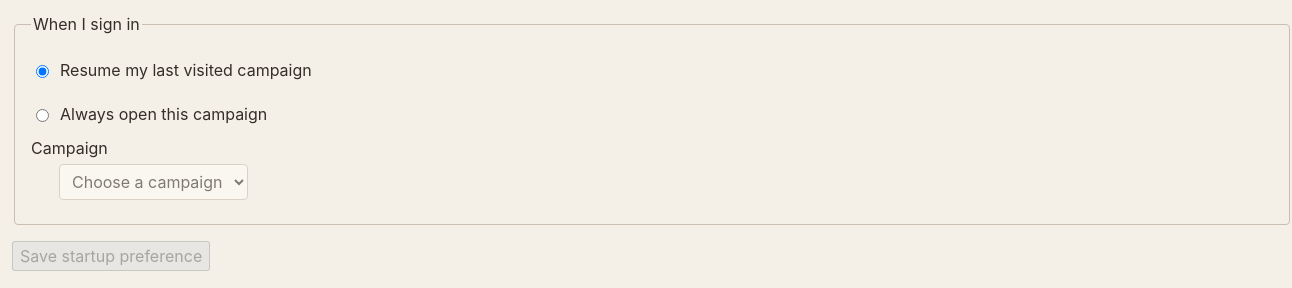
Scenario: CampaignStartupForm choosing and saving › enables the selector for fixed mode but needs a campaign before saving
Click the radio button labelled "Always open this campaign": click(42, 116) [36,109,49,122]
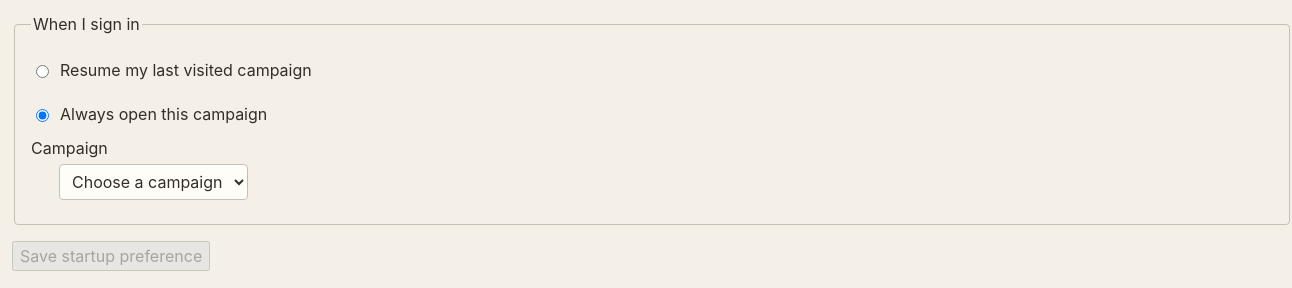
Check: the button "Save startup preference" is disabled, box [12,241,210,271]
Check: the dropdown labelled "Campaign" is enabled
Select "Alpha Campaign" in the dropdown labelled "Campaign": (154, 182) [59,164,248,200]
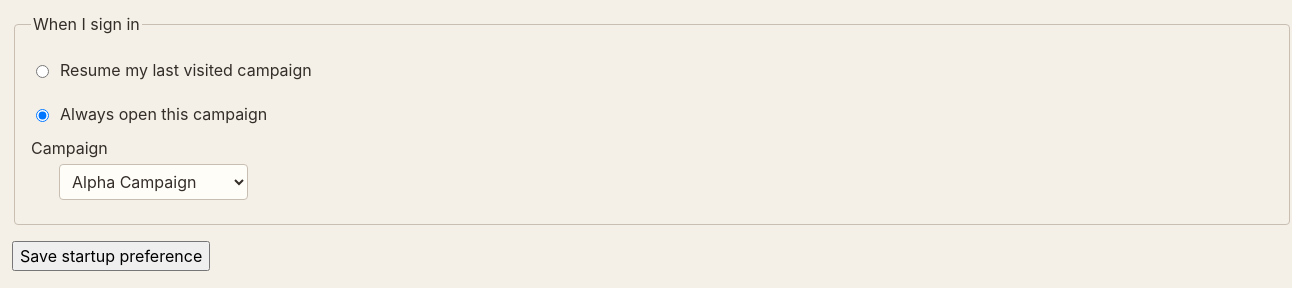
Check: the button "Save startup preference" is enabled, box [12,241,210,271]
